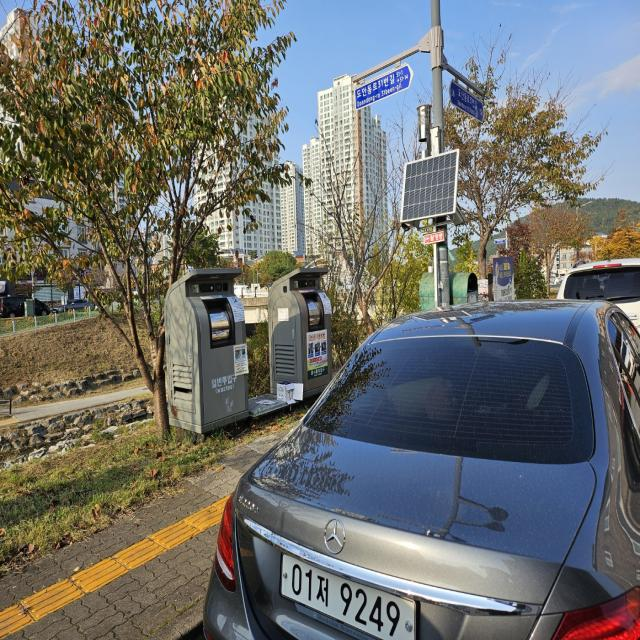CleanNet: (166, 267, 249, 432), (264, 266, 336, 399)
